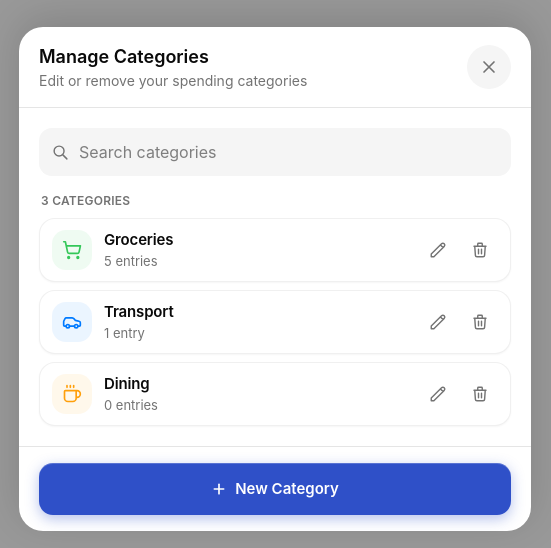
Test: ManageCategoriesPopin › filters rows case-insensitively as the user types
Type "GRO" into the field with placeholder "Search categories".
click(288, 152); type("GRO")  # box [79,140,498,164]
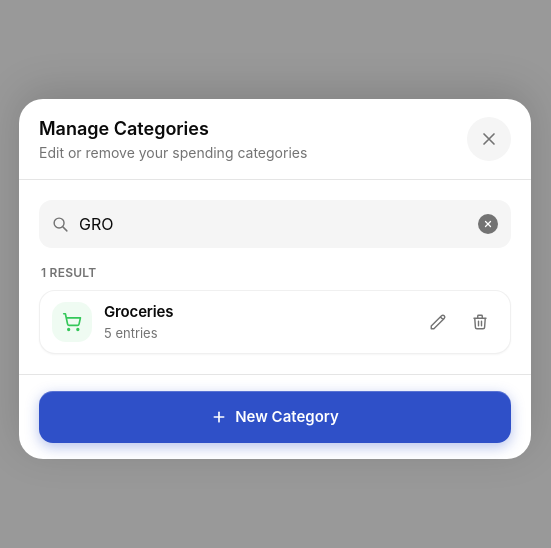
Expected: the text "Groceries" is shown, [104,301,173,324]
Now the text "Transport" is gone
Now the text "Dining" is gone
